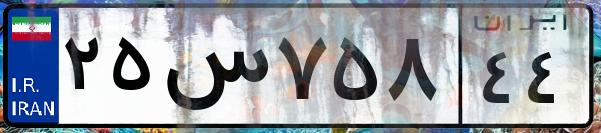2: (57, 26, 110, 100)
4: (475, 38, 525, 113), (525, 38, 570, 115)
5: (330, 28, 385, 110), (110, 28, 158, 98)
7: (270, 28, 330, 110)
8: (385, 28, 445, 110)
س: (158, 20, 270, 120)
